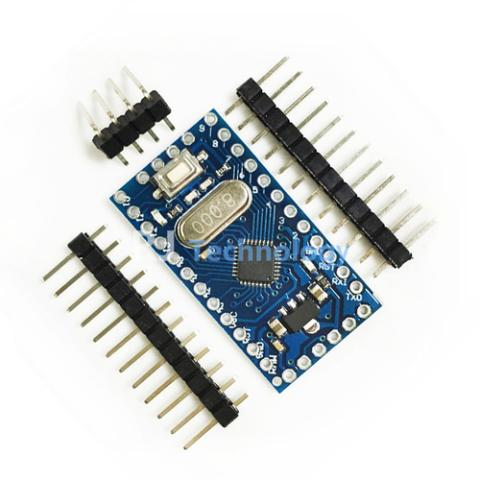Arduino-Pro-Mini: (104, 95, 384, 397)
